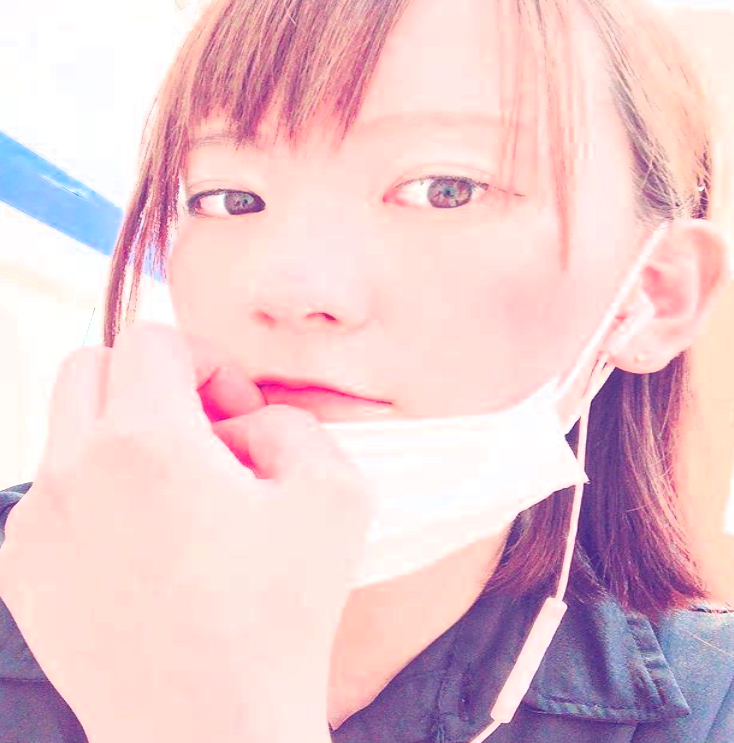mask_weared_incorrect: (160, 1, 726, 575)
